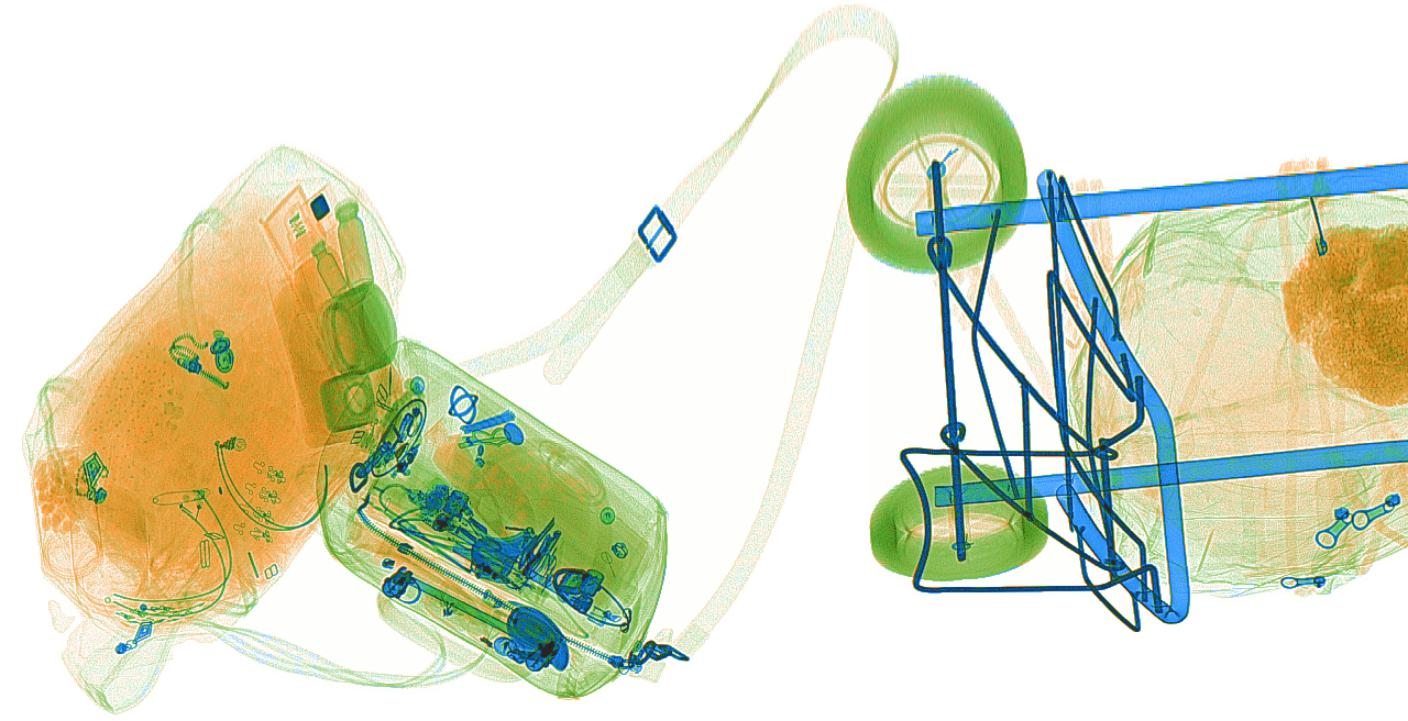plasticBottleWithaNozzle: (259, 182, 403, 409)
